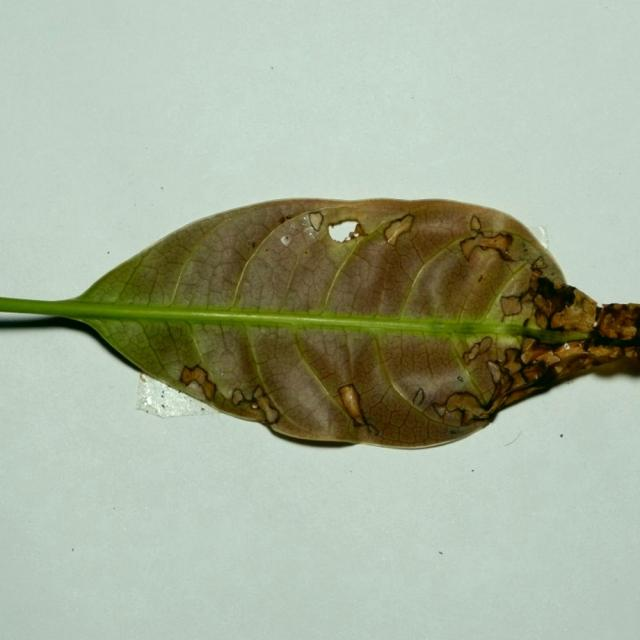Anthracnose: (382, 204, 560, 308), (321, 197, 532, 237), (284, 203, 421, 250), (297, 211, 371, 264), (286, 198, 435, 215), (336, 383, 377, 434), (333, 383, 382, 425), (229, 383, 279, 424), (179, 363, 216, 400)
Mango: (0, 199, 639, 454)
